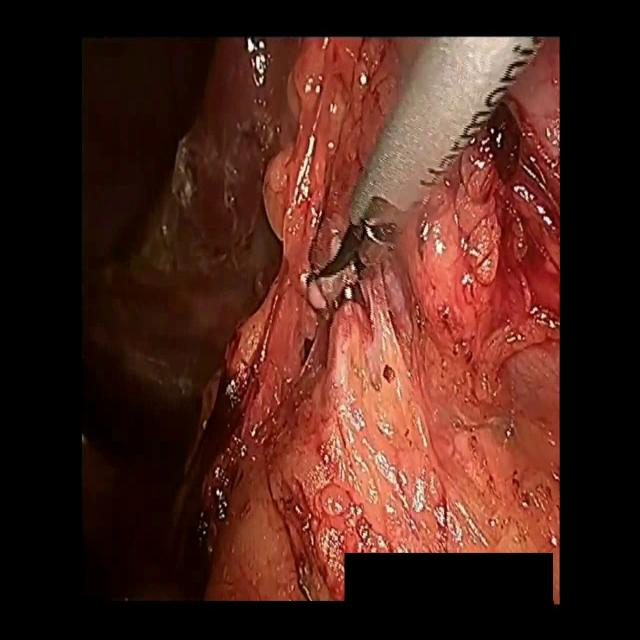surgical-area: (80, 37, 560, 606)
surgical-tool: (309, 39, 546, 300)
